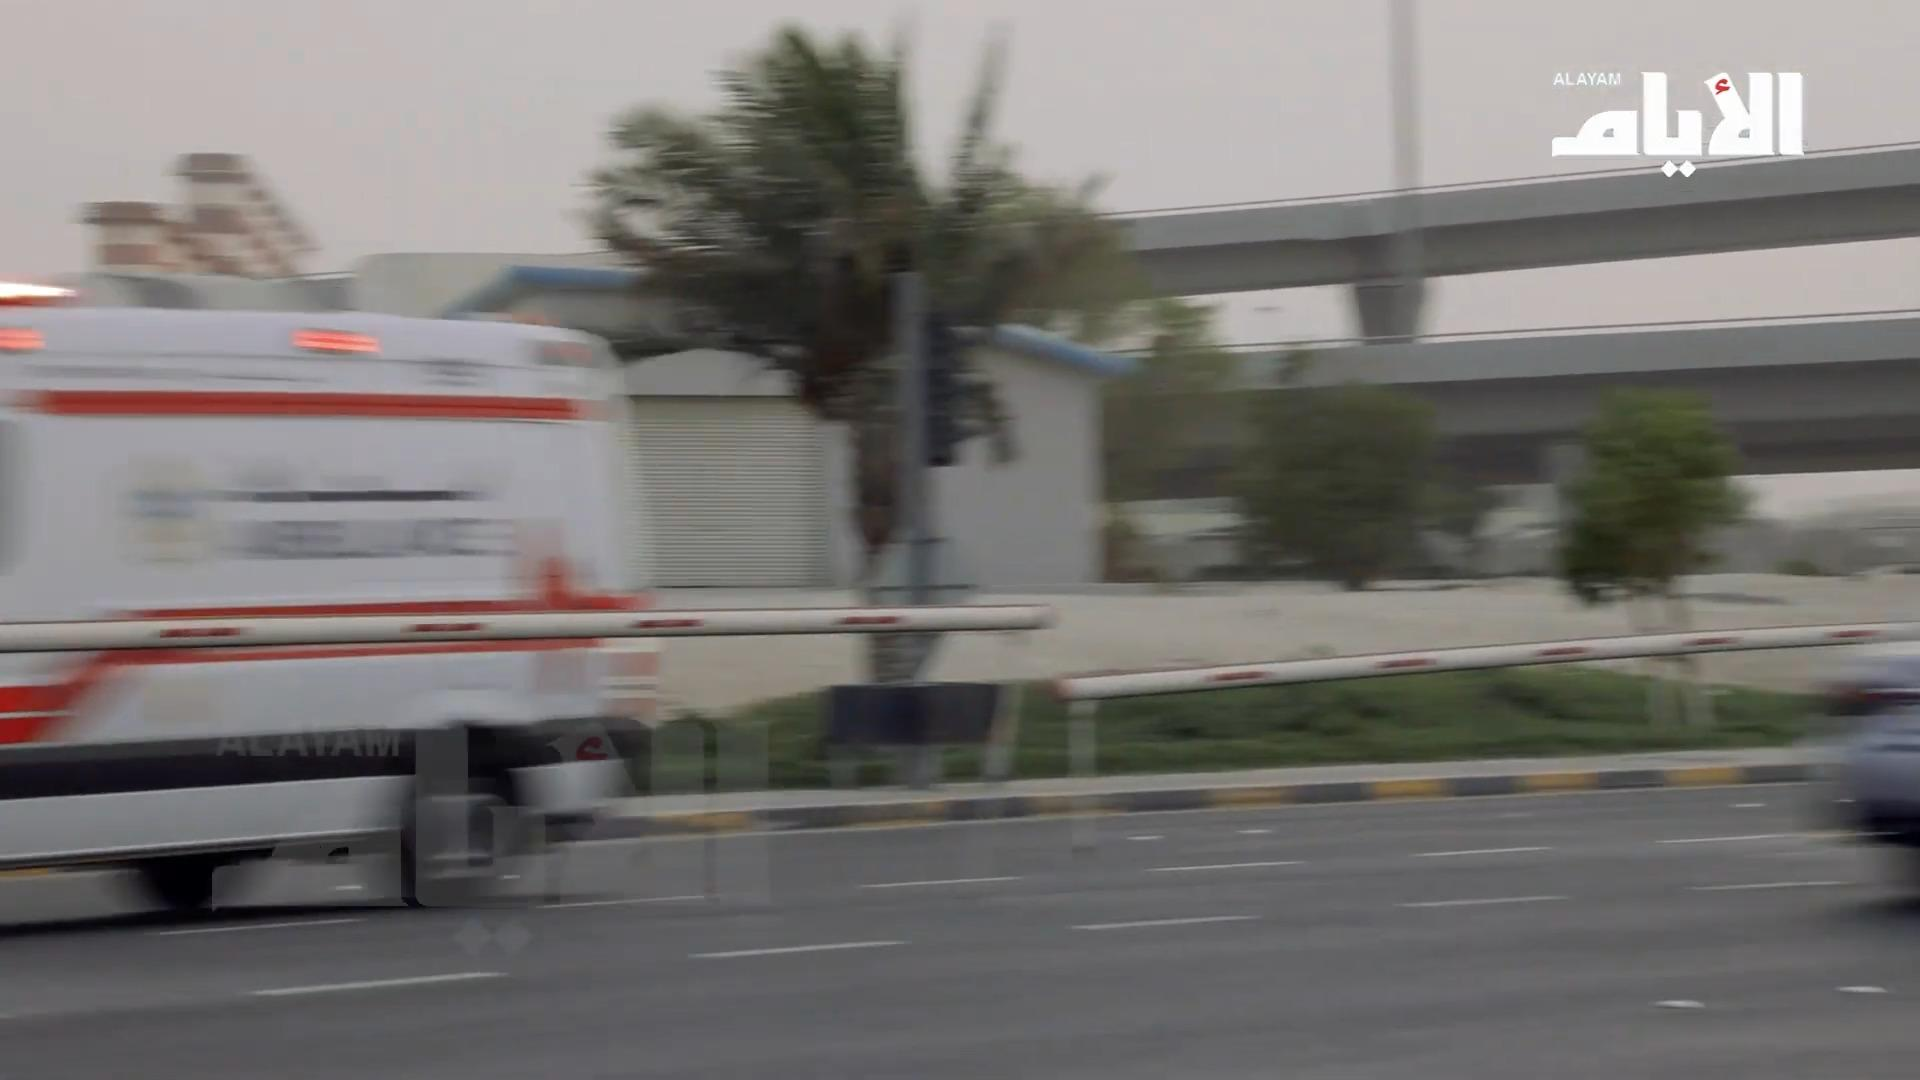ambulance_on: (5, 268, 653, 920)
